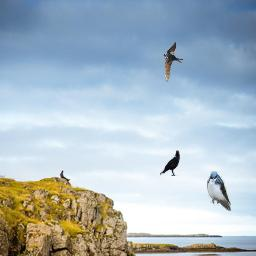Crow: (160, 150, 180, 176)
Swallow: (207, 171, 231, 211), (163, 42, 183, 82)
